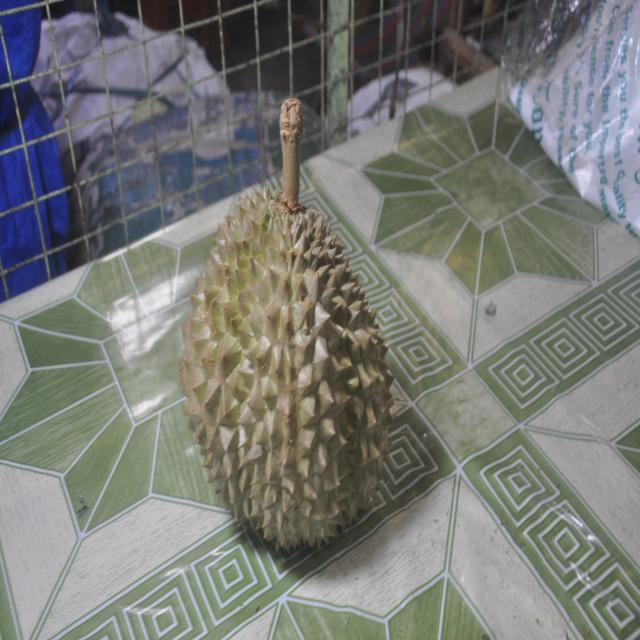mature: (179, 99, 393, 550)
